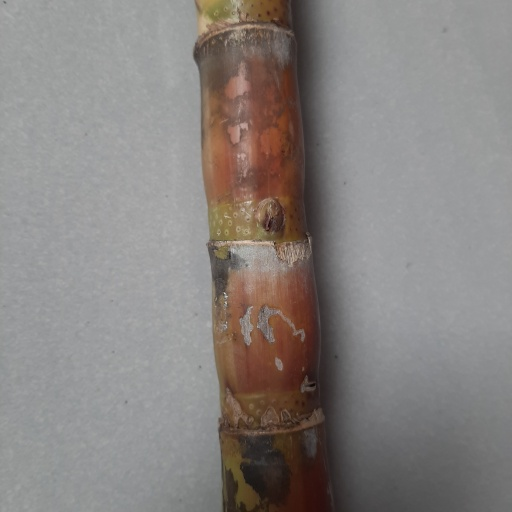Bud: (256, 196, 285, 235)
